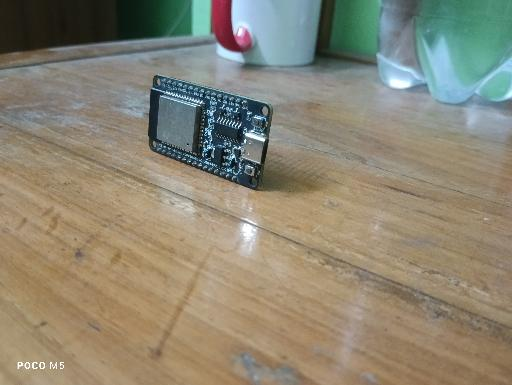Esp32: (147, 74, 273, 191)
